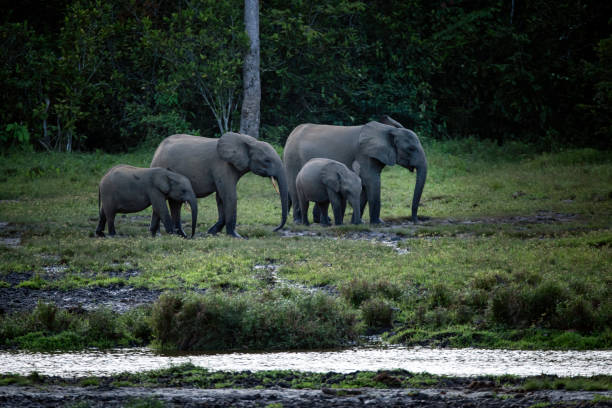africanelephant: (227, 134, 287, 190)
